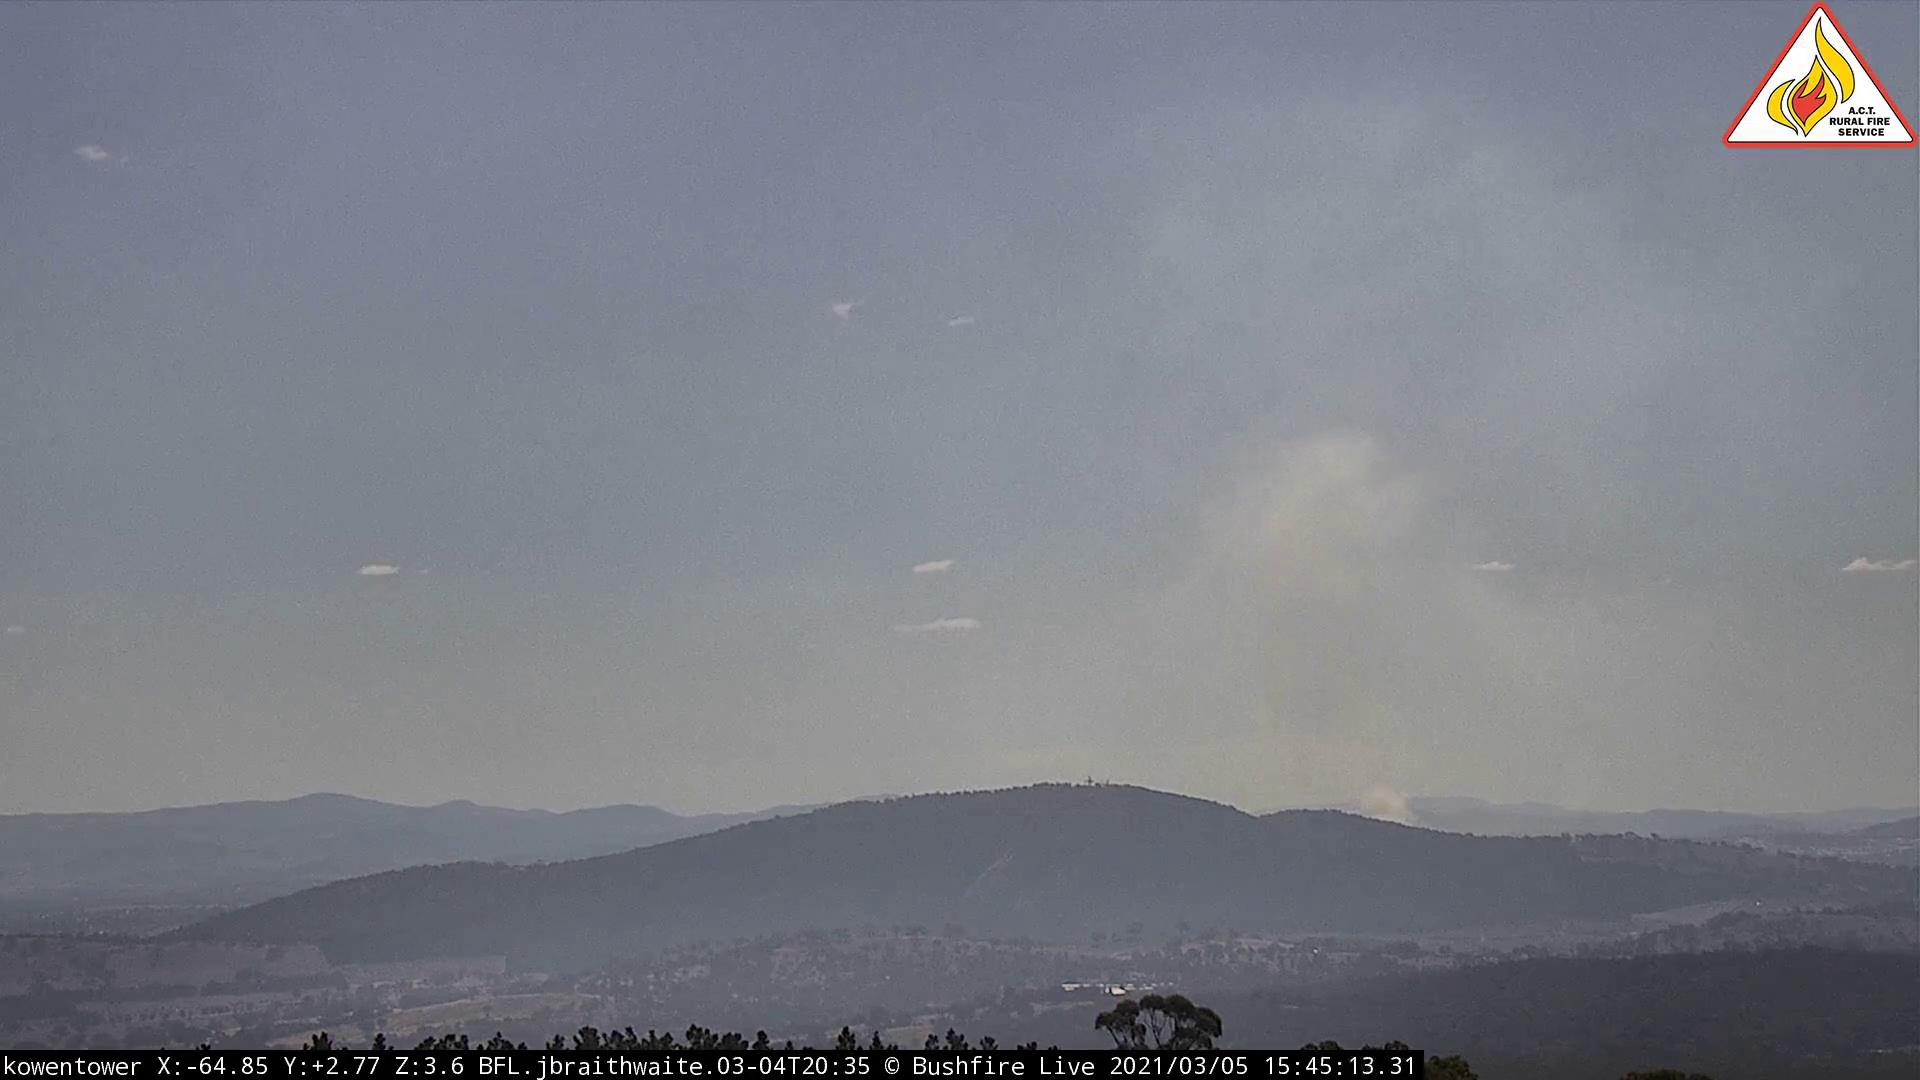Smoke: (1054, 186, 1826, 835)
